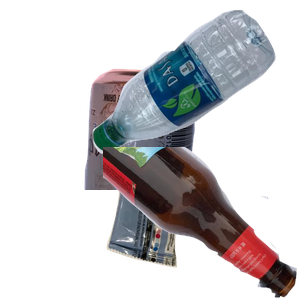glass: (103, 147, 300, 300)
metal: (82, 66, 270, 246)
plastic: (90, 10, 300, 156)
trash: (104, 152, 280, 300)
